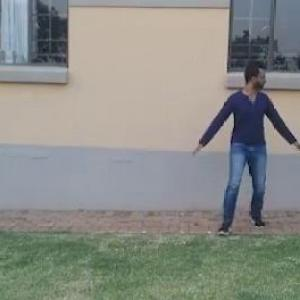land: (188, 58, 296, 240)
